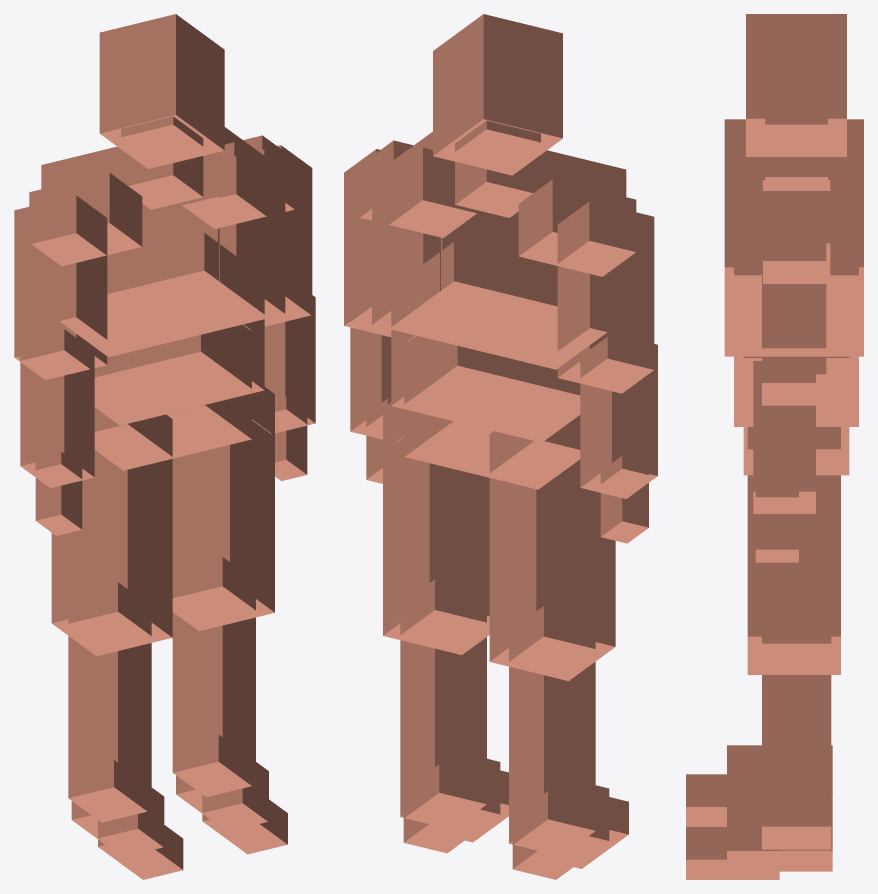
File: brawler.glb
3 renders of one model, left to right at view 1: azimuth 30°, elevation 25°; view 2: azimuth 150°, elevation 25°; view 3: azimuth 270°, elevation 25°, orthographic. The views are drawn at different scales.
Parts seen in each view (by area): view 1: Brawler; view 2: Brawler; view 3: Brawler.
Boxes of the visible parts, x1,y1,x2,y2 form: Brawler: (14, 14, 315, 879); Brawler: (344, 14, 657, 879); Brawler: (686, 14, 863, 879).
Bounding box in the file's own units: 0.664 × 1.86 × 0.37.
